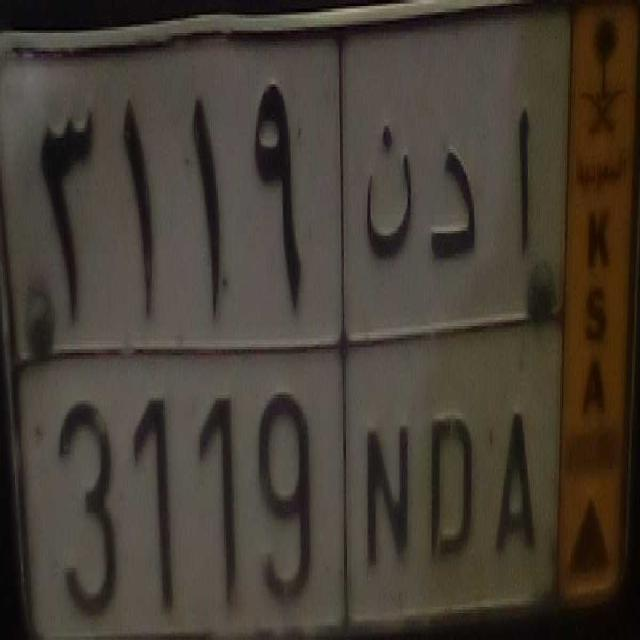license_plate: (11, 338, 559, 640)
